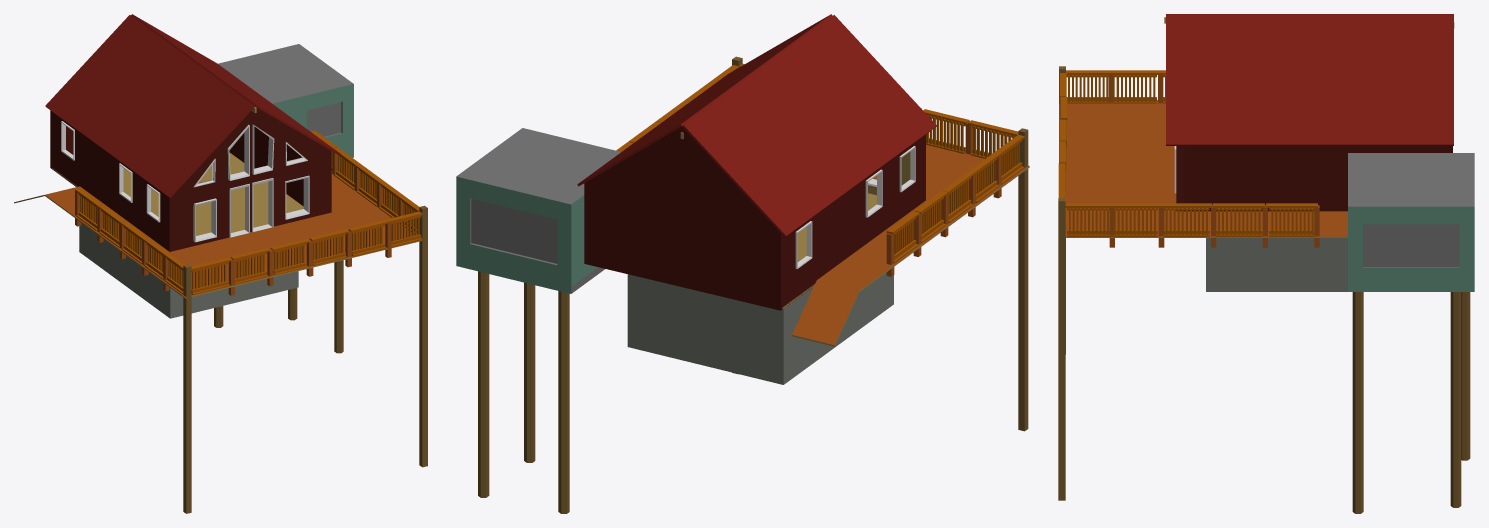
The model's file is HOMEHOUSe_V2.fbx.
3 views of the same model, side by side, from view 1: azimuth 30°, elevation 25°; view 2: azimuth 150°, elevation 25°; view 3: azimuth 270°, elevation 25° (orthographic). The views are drawn at different scales.
Visible parts, largest first — view 1: Cube, Roof, Fence.002, outsideroom, Cube.019, Cube.013, Cube.014, Cylinder.001, Cube.022, Cube.017, Cube.018, Cube.007 (+1 smaller); view 2: Cube, Roof, outsideroom, Fence.002, Cube.014, Cube.013, Cylinder, Cylinder.002, Cylinder.001; view 3: Cube.014, Cube, outsideroom, Fence.002, Cylinder.001, Cylinder, Cube.019, Cylinder.002, Roof.
Part boxes in pixels (<box>): Cube: <box>14,107,421,318</box>; Roof: <box>45,15,254,197</box>; Fence.002: <box>75,130,422,294</box>; outsideroom: <box>218,44,353,157</box>; Cube.019: <box>419,205,427,467</box>; Cube.013: <box>183,264,191,513</box>; Cube.014: <box>131,14,341,155</box>; Cylinder.001: <box>334,260,343,353</box>; Cube.022: <box>227,124,249,180</box>; Cube.017: <box>285,175,309,219</box>; Cube.018: <box>252,178,273,232</box>; Cube.007: <box>193,198,216,242</box>; Cube: <box>584,126,1029,384</box>; Roof: <box>682,15,936,237</box>; outsideroom: <box>456,128,620,293</box>; Fence.002: <box>616,63,1024,263</box>; Cube.014: <box>577,14,832,186</box>; Cube.013: <box>1018,128,1028,431</box>; Cylinder: <box>478,271,489,497</box>; Cylinder.002: <box>558,291,569,513</box>; Cylinder.001: <box>524,282,535,462</box>; Cube.014: <box>1166,15,1453,145</box>; Cube: <box>1059,17,1454,291</box>; outsideroom: <box>1348,153,1474,291</box>; Fence.002: <box>1058,70,1317,236</box>; Cylinder.001: <box>1352,292,1363,513</box>; Cylinder: <box>1450,292,1461,507</box>; Cube.019: <box>1058,198,1065,500</box>; Cylinder.002: <box>1461,292,1470,460</box>; Roof: <box>1166,14,1453,15</box>.
Size of the model in its own units: 876 by 1004 by 914.
